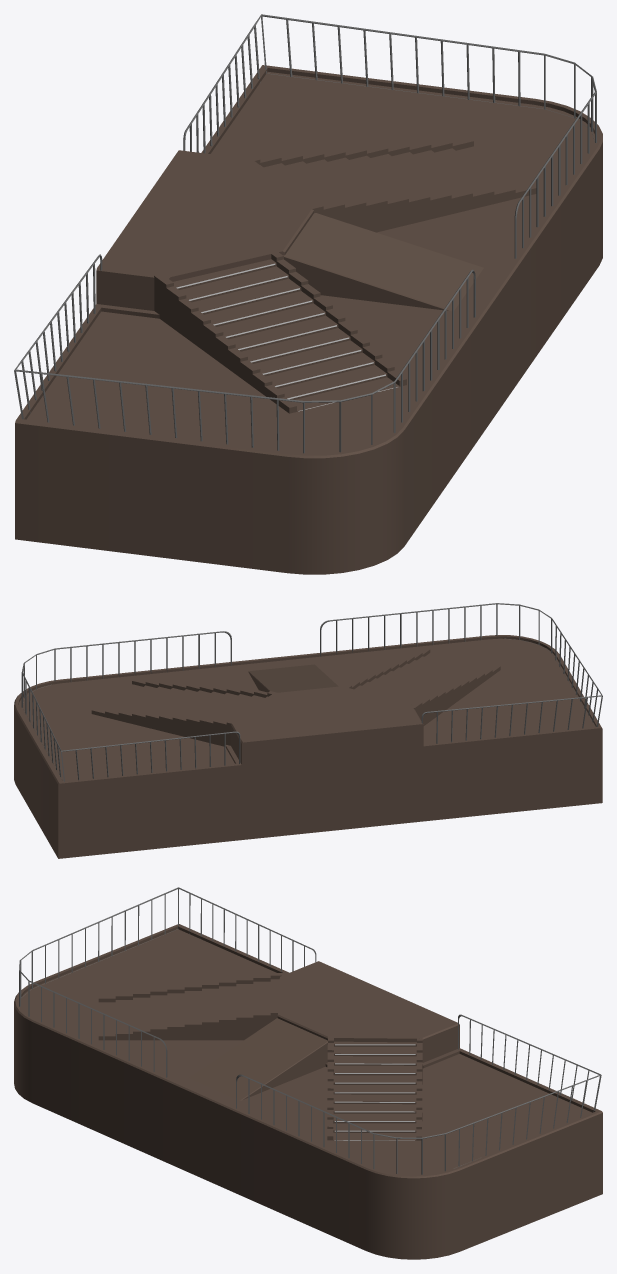
File: yk_treatlot_socoolCube_003.fbx
The picture shows the model from 3 angles, top to bottom: view 1: azimuth 30°, elevation 25°; view 2: azimuth 150°, elevation 25°; view 3: azimuth 270°, elevation 25°; orthographic projection. The views are drawn at different scales.
Visible parts, largest first — view 1: Cube.003; view 2: Cube.003; view 3: Cube.003.
Boxes of the visible parts, x1,y1,x2,y2 form: Cube.003: (14, 14, 602, 574); Cube.003: (14, 603, 602, 858); Cube.003: (14, 887, 602, 1259).
Bounding box in the file's own units: 1608 × 350 × 1575.
